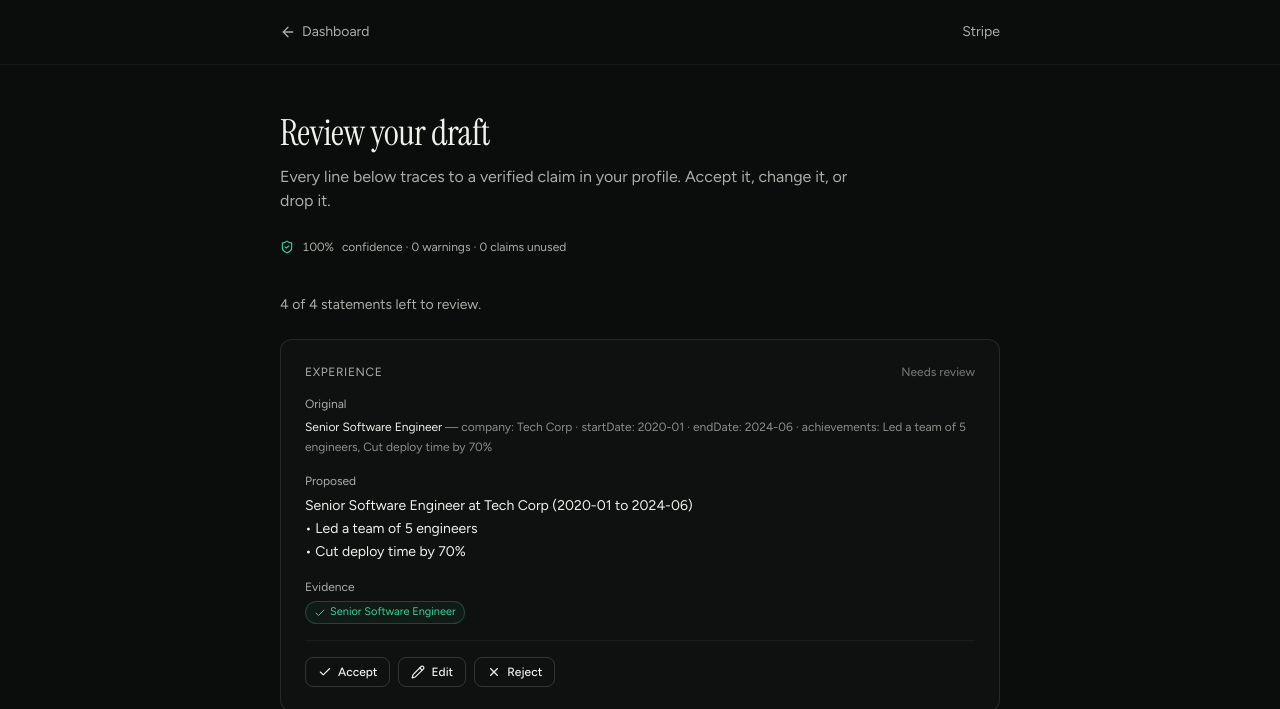
TailorPage › edits a statement
Click the button with aria-label "Edit experience statement": click(432, 672) [398,657,466,687]
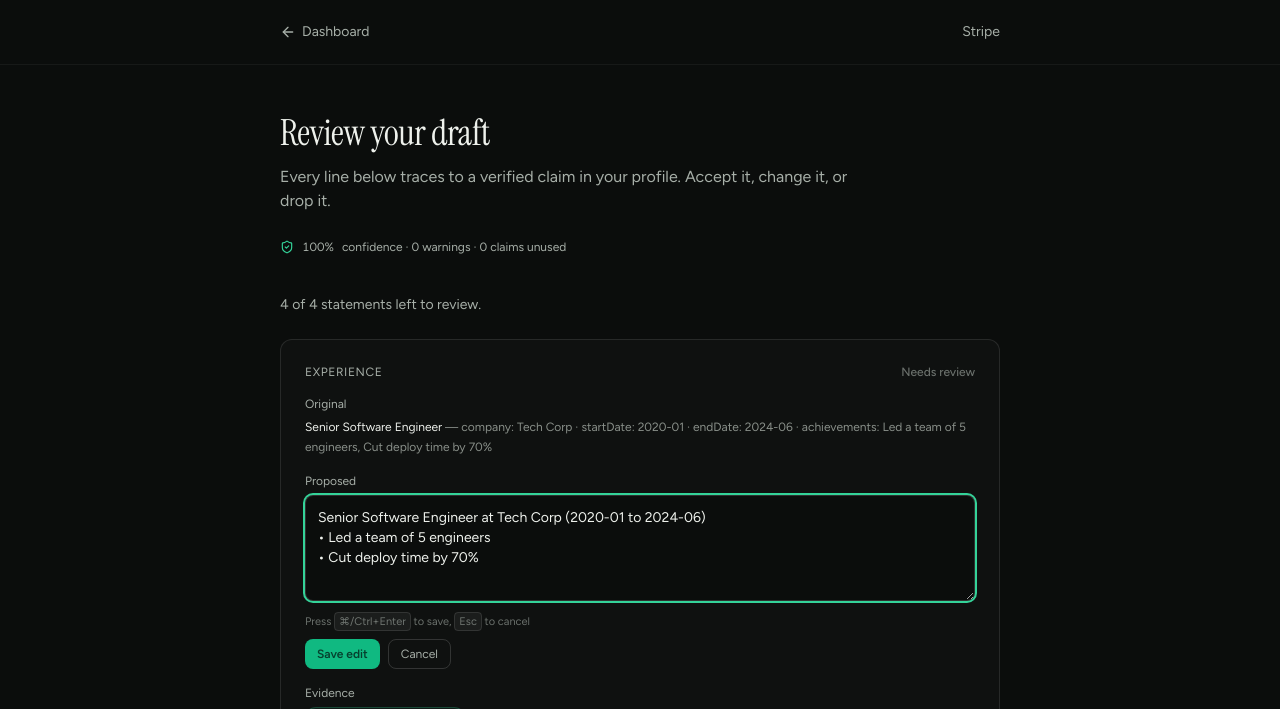
Replace the text in the text box named "Edit proposed experience statement" with "Rewritten for this role.": (640, 548) [305,495,975,601]
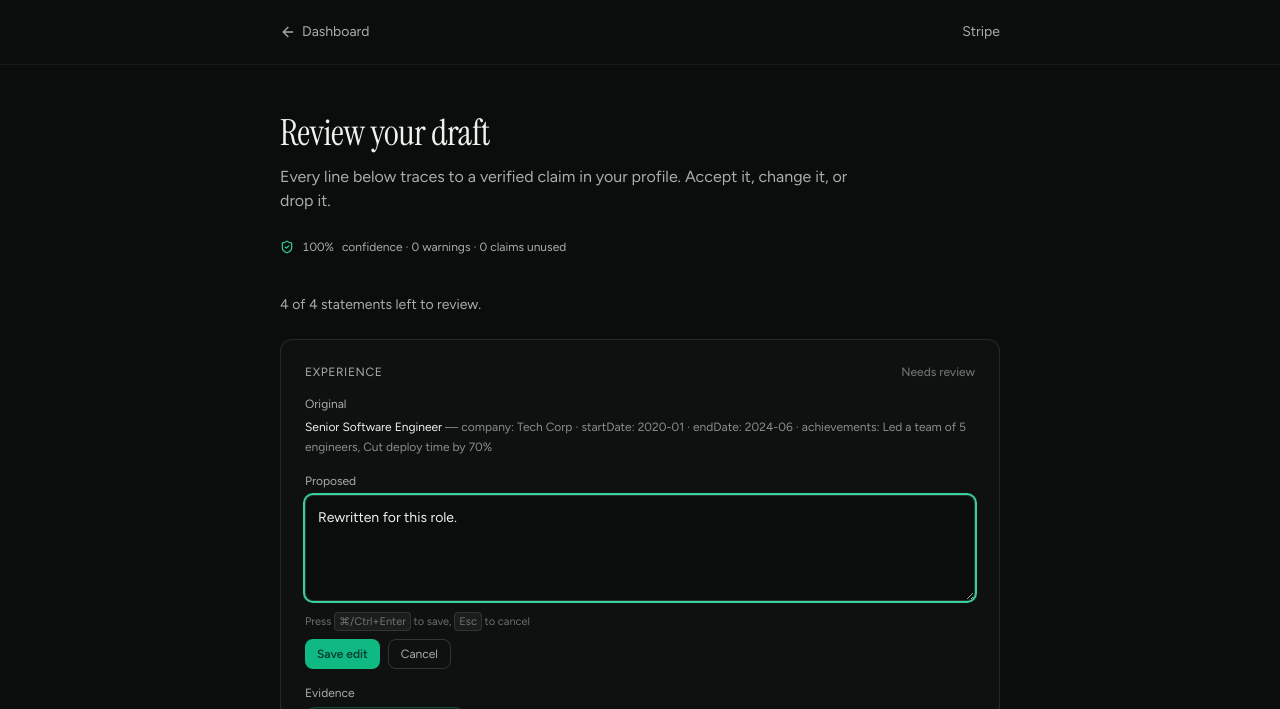
Click the button "Save edit": click(342, 654) [305,638,380,668]
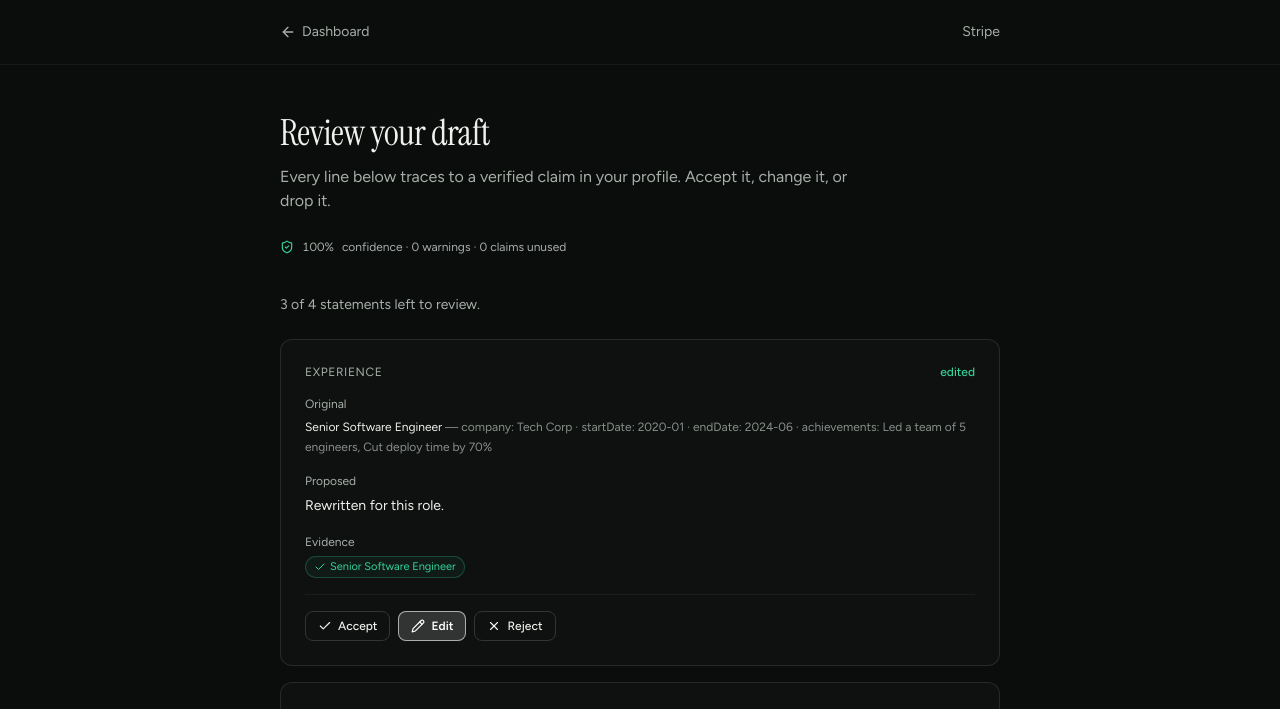
Expected: the text "Rewritten for this role." is shown, [305,497,444,514]
Expected: the text "edited" is shown, [940,364,975,380]
